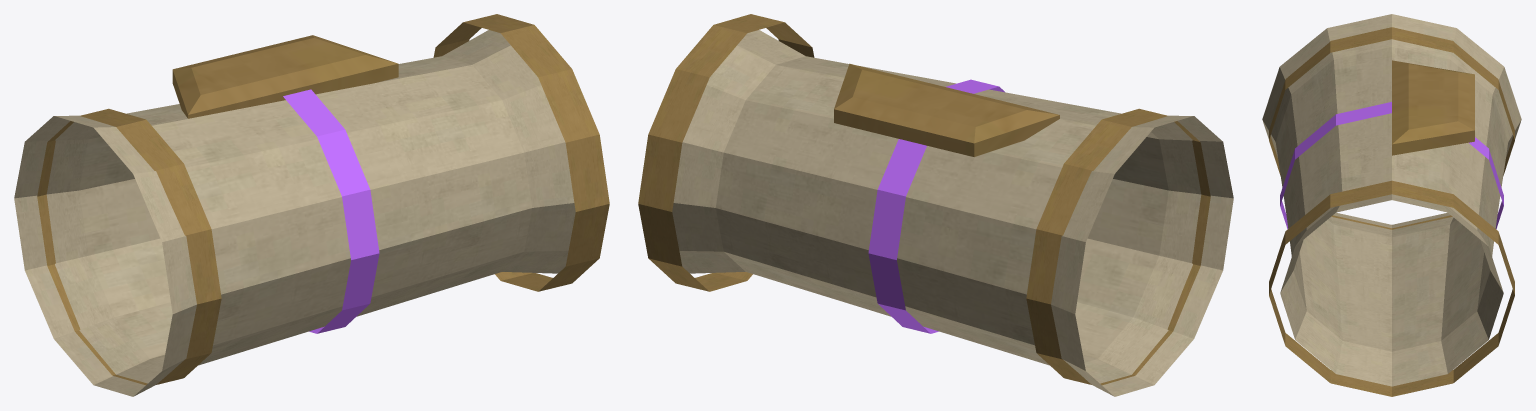
The model's file is eq_future_3_arm.glb.
3 views of the same model, side by side, from view 1: azimuth 30°, elevation 25°; view 2: azimuth 150°, elevation 25°; view 3: azimuth 270°, elevation 25° (orthographic). The views are drawn at different scales.
Parts seen in each view (by area): view 1: eq_future_3_arm; view 2: eq_future_3_arm; view 3: eq_future_3_arm.
Part boxes in pixels (left/top/right/bottom): eq_future_3_arm: left=14, top=14, right=609, bottom=396; eq_future_3_arm: left=638, top=14, right=1233, bottom=396; eq_future_3_arm: left=1262, top=14, right=1521, bottom=396.
Size of the model in its own units: 0.2516 by 0.1404 by 0.1566.
Materials: 3 (3 with a texture image).
